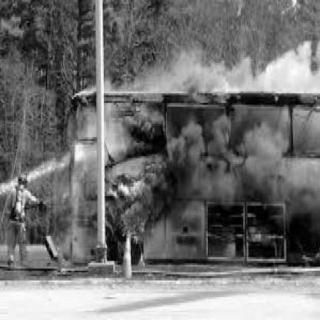Fire: (115, 184, 172, 244)
